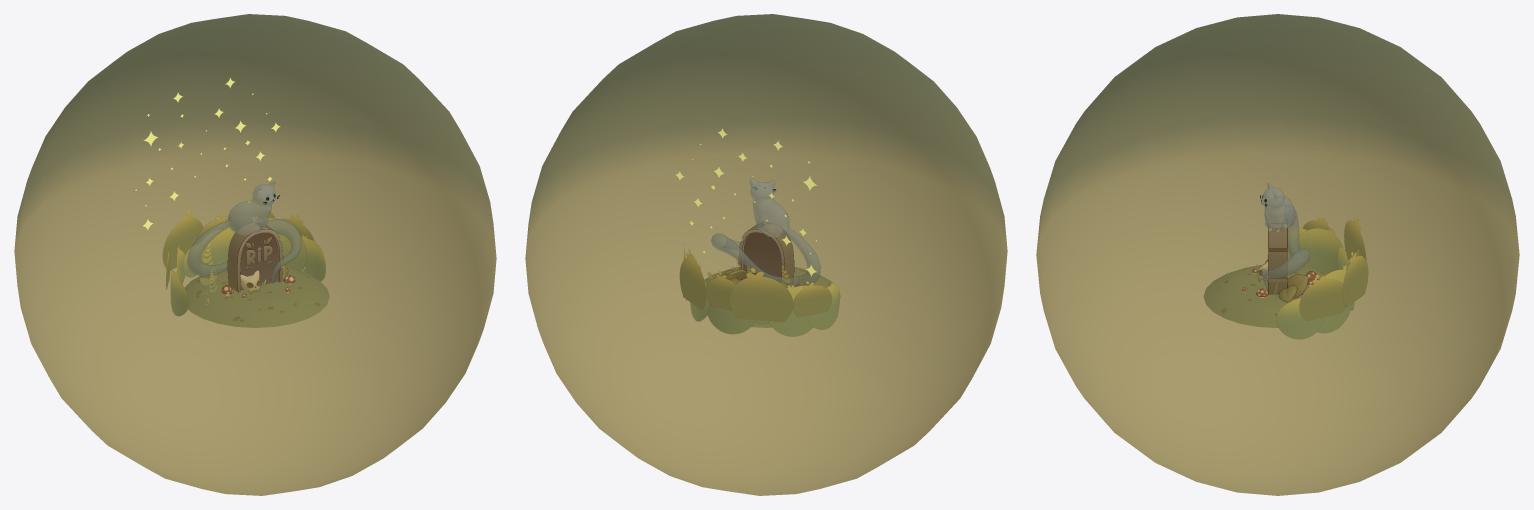
Rendered from ghost_kitty.glb.
The picture shows the model from 3 angles, left to right: view 1: azimuth 30°, elevation 25°; view 2: azimuth 150°, elevation 25°; view 3: azimuth 270°, elevation 25°; orthographic projection.
Visible parts, largest first — view 1: Roundcube, Background, Circle.010, Roundcube_009.002, Roundcube_009.001, Plane, Plane.011; view 2: Roundcube, Background, Roundcube_009.002, Roundcube_009.001, Plane.011, Plane, Circle.010; view 3: Roundcube, Background, Circle.010, Roundcube_009.002, Roundcube_009.001, Plane.
Part boxes in pixels (box(x1,y1,x2,y2)): Roundcube: box(14, 14, 496, 495); Background: box(162, 195, 325, 316); Circle.010: box(184, 267, 329, 327); Roundcube_009.002: box(188, 181, 301, 283); Roundcube_009.001: box(187, 181, 301, 282); Plane: box(227, 222, 283, 292); Plane.011: box(240, 232, 278, 290); Roundcube: box(525, 14, 1007, 495); Background: box(679, 243, 839, 336); Roundcube_009.002: box(711, 179, 820, 286); Roundcube_009.001: box(711, 179, 820, 286); Plane.011: box(743, 232, 781, 282); Plane: box(738, 222, 794, 284); Circle.010: box(704, 267, 840, 327); Roundcube: box(1036, 14, 1519, 495); Background: box(1276, 217, 1368, 339); Circle.010: box(1203, 265, 1327, 327); Roundcube_009.002: box(1260, 183, 1309, 289); Roundcube_009.001: box(1260, 183, 1310, 289); Plane: box(1268, 223, 1287, 294).
Size of the model in its own units: 9.28 by 9.28 by 9.28.
Materials: 6 (6 with a texture image).
